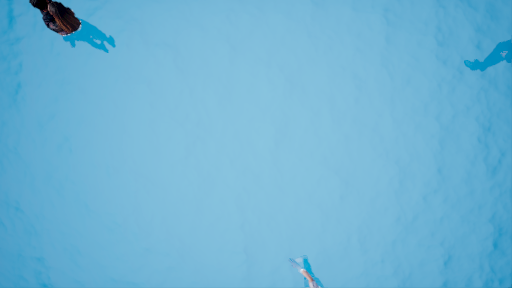person: (24, 2, 123, 52), (281, 251, 335, 288)
